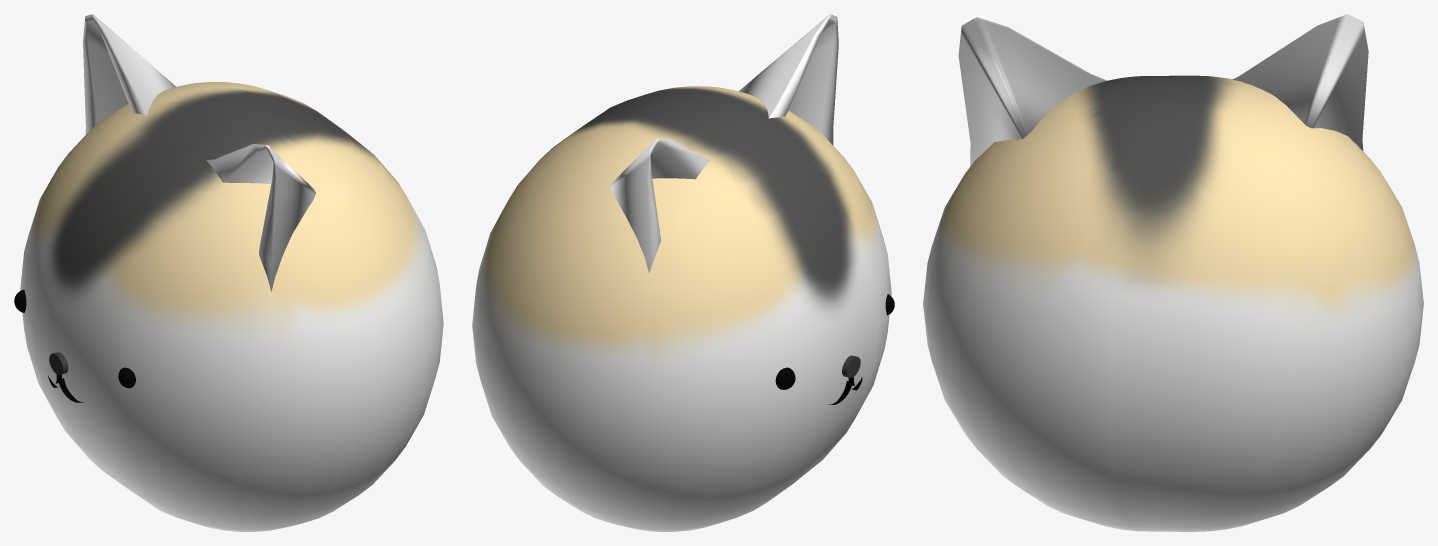
File: baobaotemp.glb
3 renders of one model, left to right at view 1: azimuth 30°, elevation 25°; view 2: azimuth 150°, elevation 25°; view 3: azimuth 270°, elevation 25°, orthographic. The views are drawn at different scales.
Visible parts, largest first — view 1: Sphere, Cube, Cube.001; view 2: Sphere, Cube.001, Cube; view 3: Sphere, Cube.001, Cube.
Part boxes in pixels (x1=…): Sphere: x1=20, y1=82, x2=443, y2=531; Cube: x1=83, y1=14, x2=175, y2=134; Cube.001: x1=206, y1=144, x2=315, y2=291; Sphere: x1=472, y1=86, x2=891, y2=531; Cube.001: x1=739, y1=14, x2=838, y2=145; Cube: x1=610, y1=138, x2=709, y2=272; Sphere: x1=923, y1=75, x2=1423, y2=531; Cube.001: x1=958, y1=17, x2=1107, y2=166; Cube: x1=1232, y1=14, x2=1368, y2=150.
Size of the model in its own units: 1.1 by 1.36 by 1.31.
5 materials, 2 textured.
